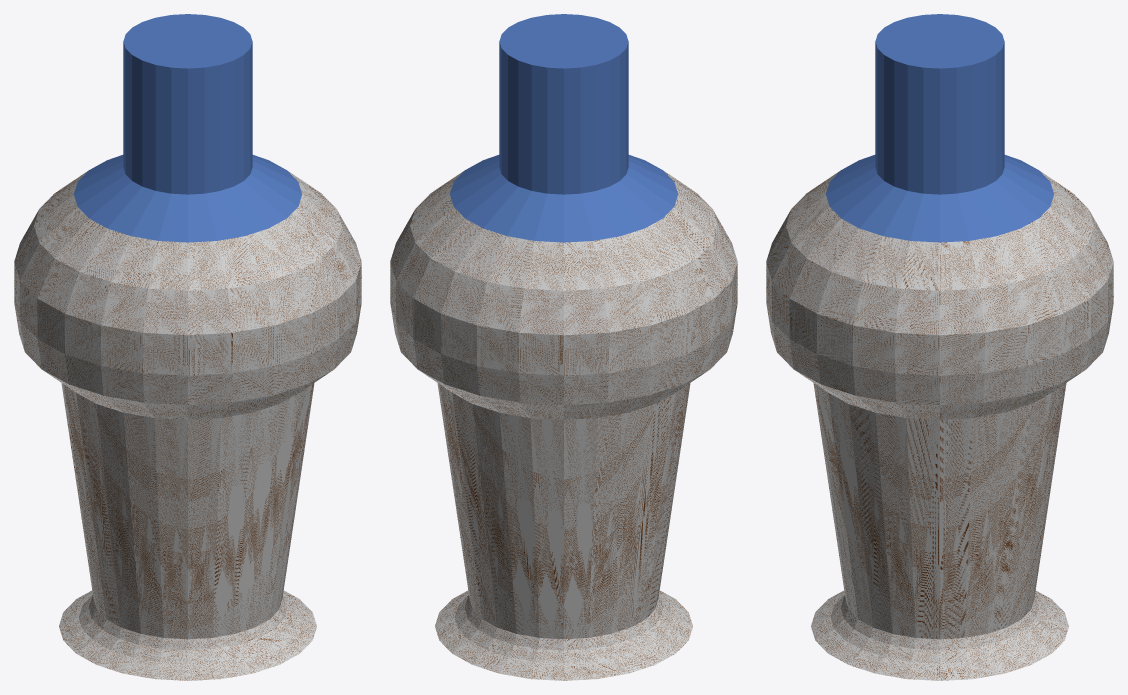
3 renders of one model, left to right at view 1: azimuth 30°, elevation 25°; view 2: azimuth 150°, elevation 25°; view 3: azimuth 270°, elevation 25°, orthographic.
Parts seen in each view (by area): view 1: mesh1_mesh1-geometry; view 2: mesh1_mesh1-geometry; view 3: mesh1_mesh1-geometry.
Part boxes in pixels (bbox=[...]): mesh1_mesh1-geometry: bbox=[14, 14, 361, 680]; mesh1_mesh1-geometry: bbox=[390, 14, 737, 680]; mesh1_mesh1-geometry: bbox=[766, 14, 1113, 680].
Size of the model in its own units: 0.4284 by 0.7956 by 0.4284.
